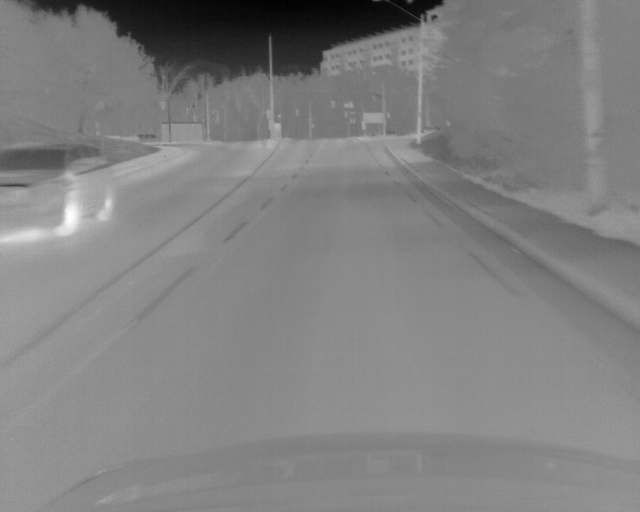car: (1, 138, 116, 243)
